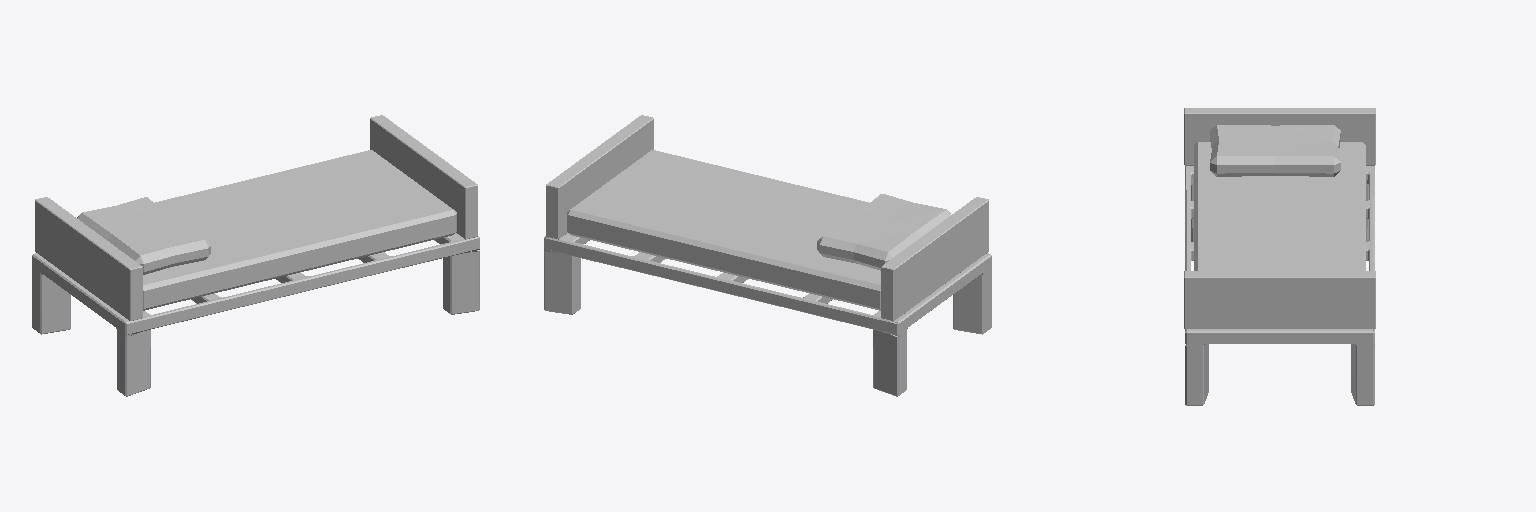
Rendered from Bed.obj.
3 renders of one model, left to right at view 1: azimuth 30°, elevation 25°; view 2: azimuth 150°, elevation 25°; view 3: azimuth 270°, elevation 25°, orthographic.
Parts seen in each view (by area): view 1: pCube6; view 2: pCube6; view 3: pCube6.
Part boxes in pixels (left/top/right/bottom): pCube6: left=32, top=115, right=479, bottom=396; pCube6: left=544, top=115, right=991, bottom=396; pCube6: left=1184, top=108, right=1375, bottom=405.
Size of the model in its own units: 109 by 37.51 by 50.99.